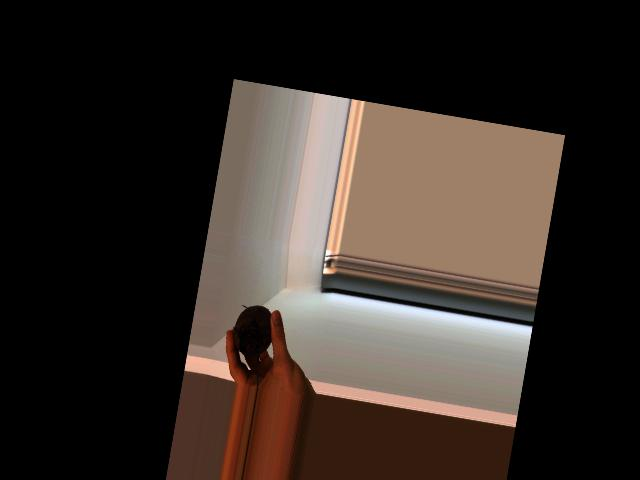beet: (223, 301, 278, 388)
